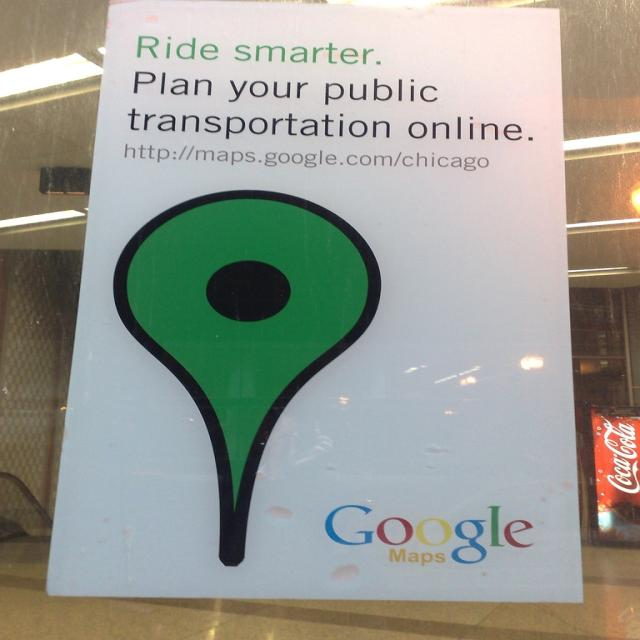google: (321, 504, 543, 569)
